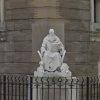Statue: (31, 18, 77, 86)
